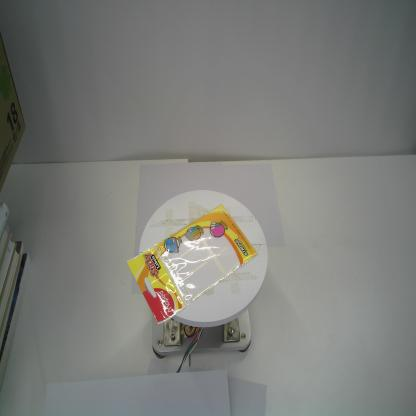Stationery: (126, 204, 258, 325)
